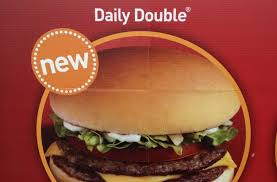hamburger: (49, 47, 242, 182)
